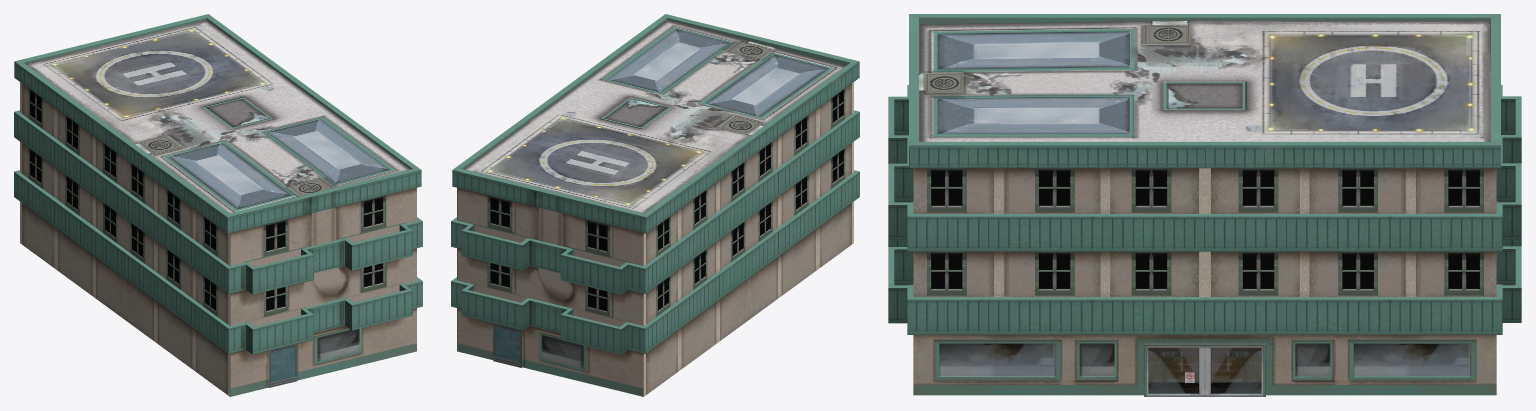
The model's file is Clinic.fbx.
3 renders of one model, left to right at view 1: azimuth 30°, elevation 25°; view 2: azimuth 150°, elevation 25°; view 3: azimuth 270°, elevation 25°, orthographic. The views are drawn at different scales.
Parts seen in each view (by area): view 1: Clinic; view 2: Clinic; view 3: Clinic.
Part boxes in pixels (x1,y1,x2,y2): Clinic: (14, 14, 422, 396); Clinic: (451, 14, 859, 396); Clinic: (888, 14, 1521, 396).
Size of the model in its own units: 368 by 328 by 747.
Materials: 1 (1 with a texture image).
